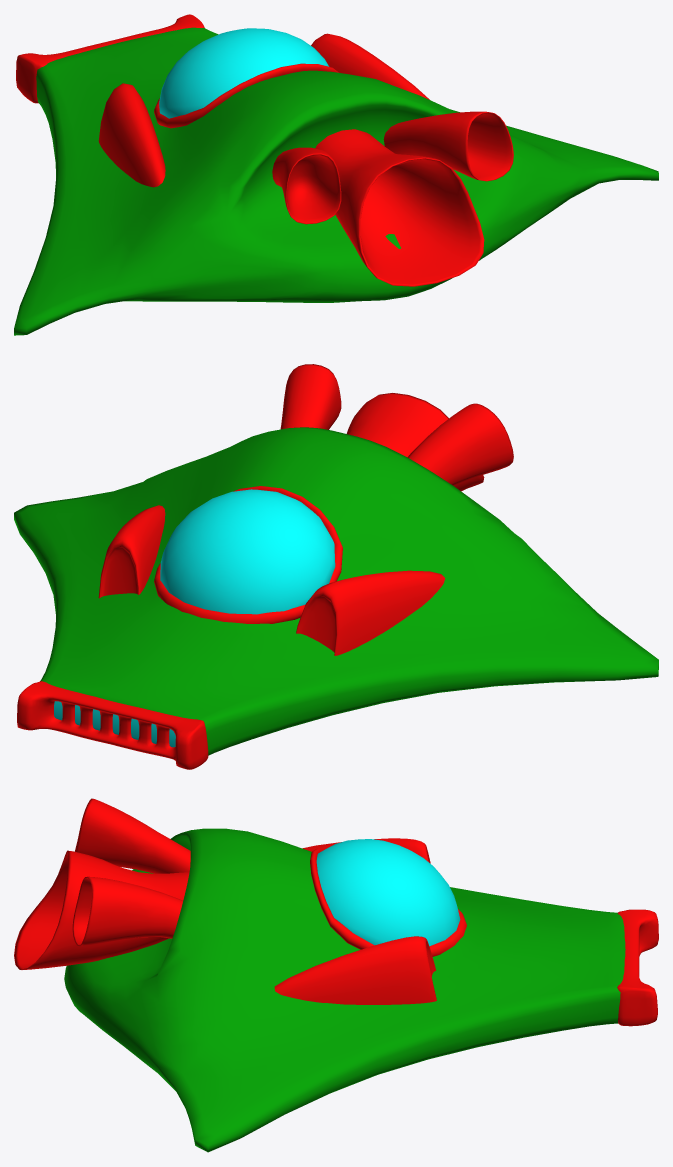
Rendered from ship2.fbx.
The picture shows the model from 3 angles, top to bottom: view 1: azimuth 30°, elevation 25°; view 2: azimuth 150°, elevation 25°; view 3: azimuth 270°, elevation 25°; orthographic projection. The views are drawn at different scales.
Visible parts, largest first — view 1: body, tail, cockpit; view 2: body, tail, cockpit; view 3: body, tail, cockpit.
Boxes of the visible parts, left/top/right/bottom form: body: left=14, top=27, right=658, bottom=335; tail: left=16, top=14, right=513, bottom=286; cockpit: left=159, top=28, right=329, bottom=118; body: left=14, top=427, right=658, bottom=755; tail: left=17, top=364, right=513, bottom=769; cockpit: left=54, top=489, right=335, bottom=747; body: left=64, top=828, right=625, bottom=1152; tail: left=14, top=798, right=658, bottom=1026; cockpit: left=316, top=839, right=460, bottom=946.
Bounding box in the file's own units: 1945 × 521 × 1758.
